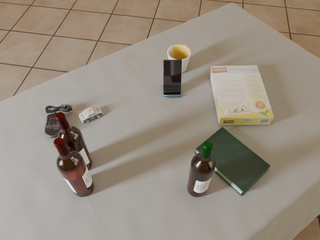book: (195, 127, 270, 196)
bottle: (54, 137, 94, 197), (55, 112, 92, 170), (187, 141, 216, 197)
box: (210, 65, 274, 125)
cup: (167, 44, 191, 73)
mouse: (45, 104, 73, 138)
phone: (164, 59, 182, 94)
toy_car: (79, 106, 103, 123)
